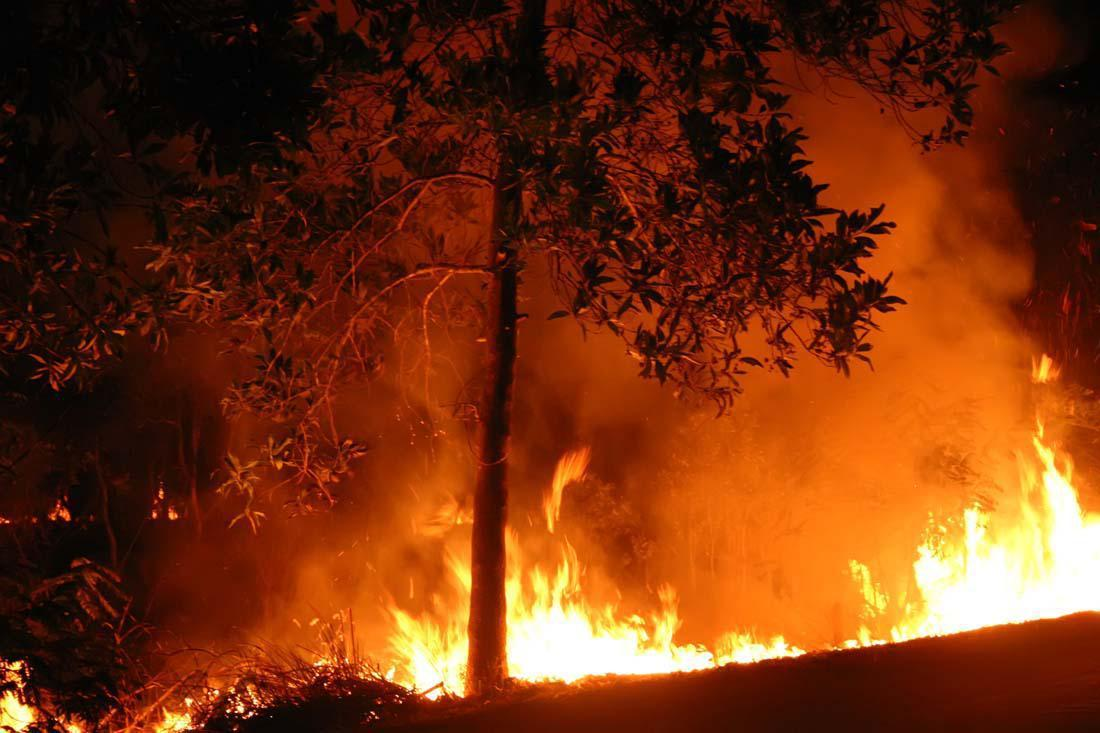fire: (397, 514, 792, 674), (860, 405, 1098, 624)
